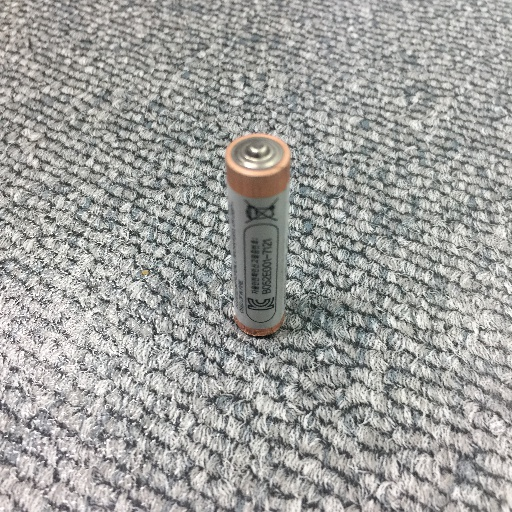Battery_0: (216, 124, 299, 344)
